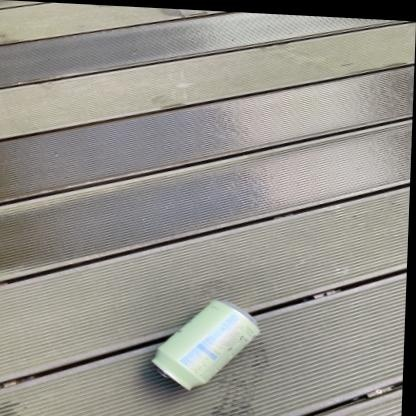trash: (152, 300, 258, 389)
